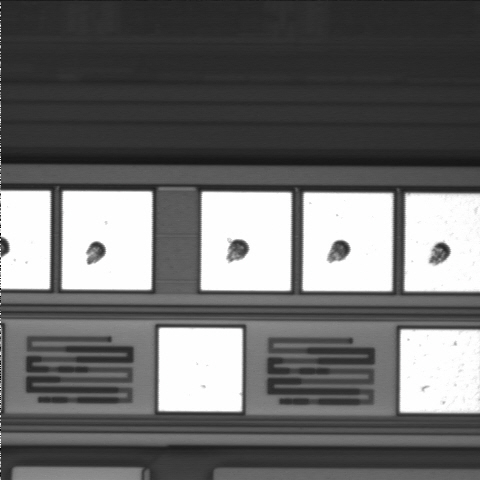pad: (62, 191, 152, 290), (201, 192, 291, 291), (303, 193, 393, 291), (159, 328, 242, 411)
